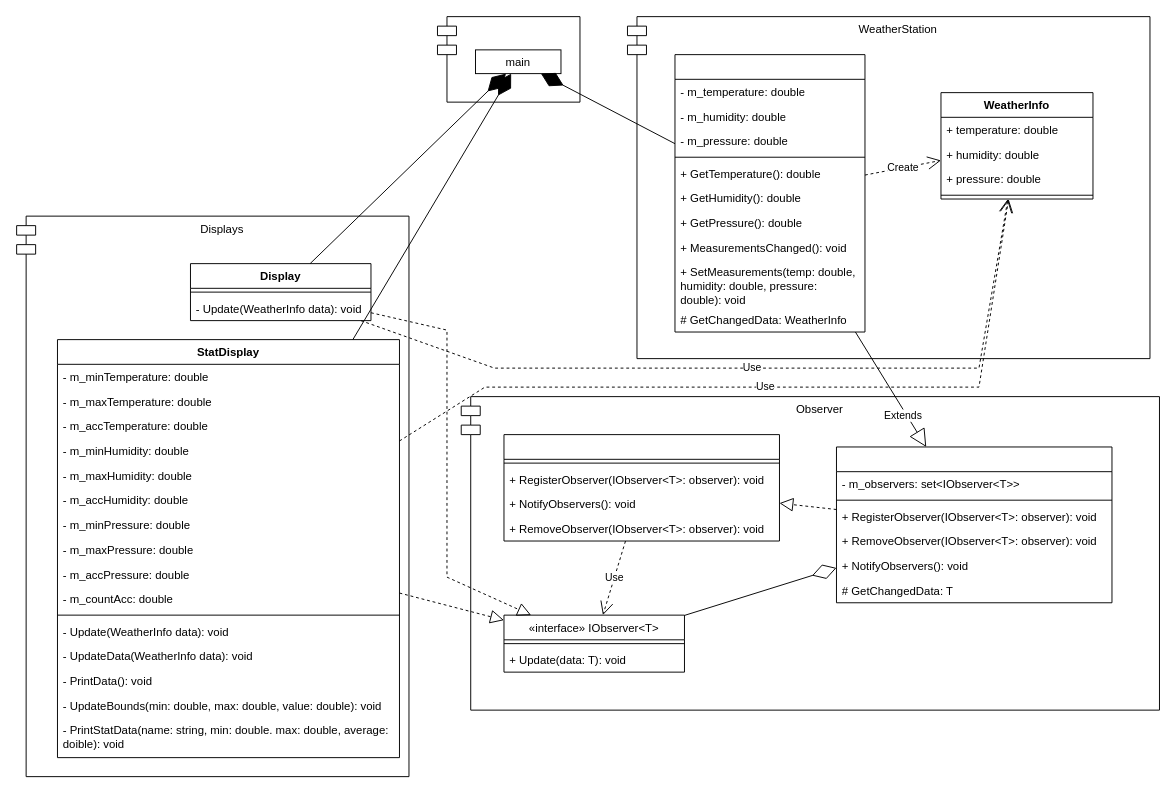
The diagram is 1176 pixels wide and 793 high, and some of its shapes have lost their labels. The shapes that lost their labels are listed below. From the top down, each one's box as (x1, y1, x2, y2) in pixels, then its label:
(437, 16, 580, 102): App
(674, 54, 865, 332): WeatherData
(503, 434, 779, 541): «interface» IObservable<T>
(836, 446, 1112, 603): Observable<T>
